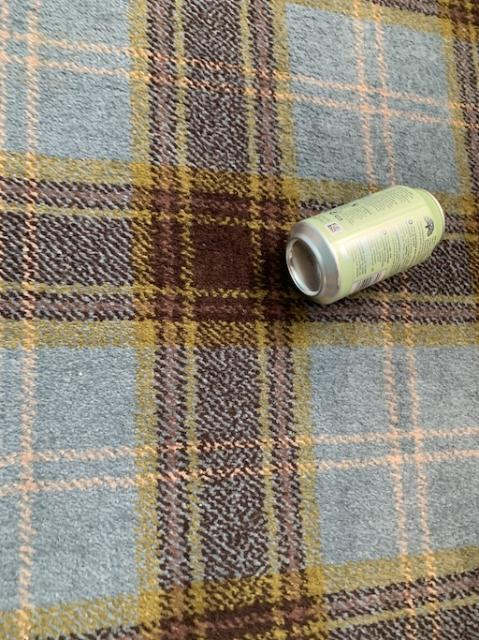metal: (286, 185, 443, 302)
